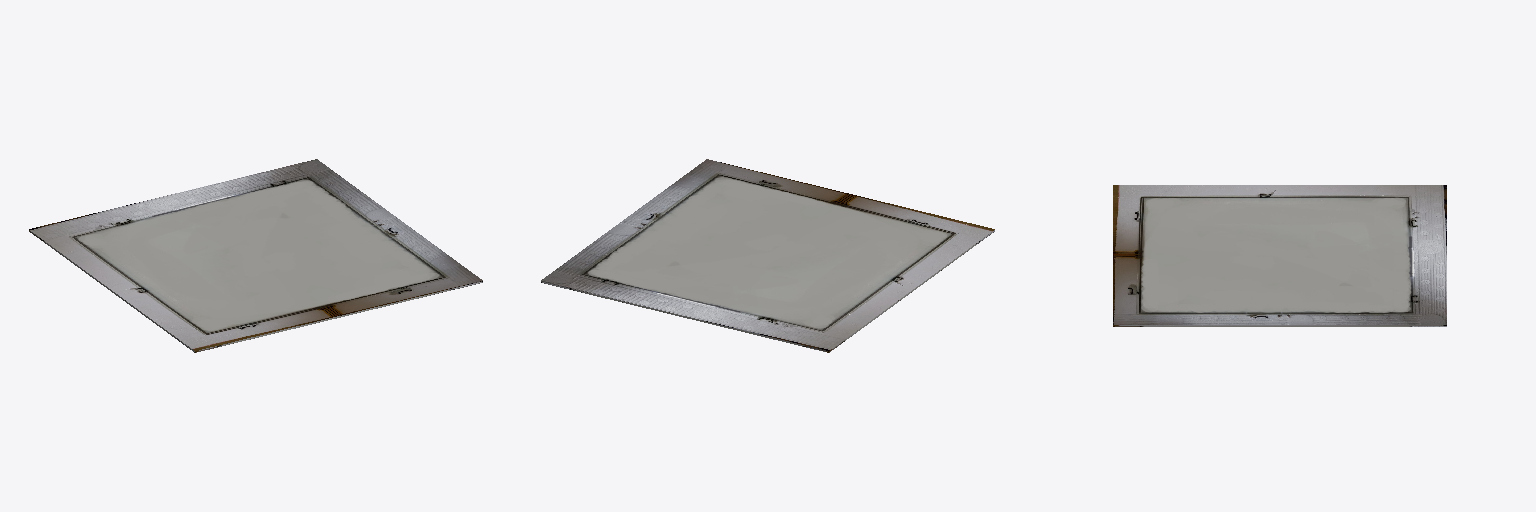
The picture shows the model from 3 angles: view 1: azimuth 30°, elevation 25°; view 2: azimuth 150°, elevation 25°; view 3: azimuth 270°, elevation 25°; orthographic projection.
Parts seen in each view (by area): view 1: Cube; view 2: Cube; view 3: Cube.
Boxes of the visible parts, <box> form: Cube: <box>29,159,482,352</box>; Cube: <box>541,159,994,352</box>; Cube: <box>1113,185,1446,326</box>.
Bounding box in the file's own units: 15.94 × 0.0941 × 15.94.
1 materials, 1 textured.